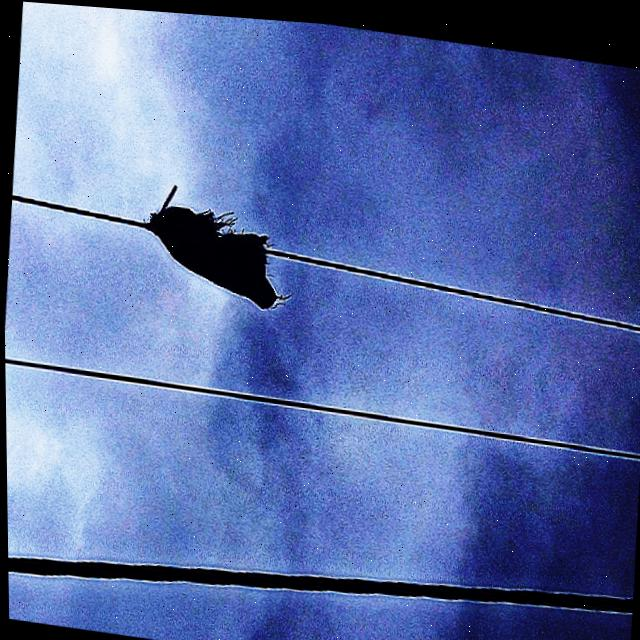obstruction: (132, 171, 286, 321)
wires: (6, 358, 638, 461), (6, 552, 621, 615), (275, 237, 640, 336), (16, 182, 145, 236)
